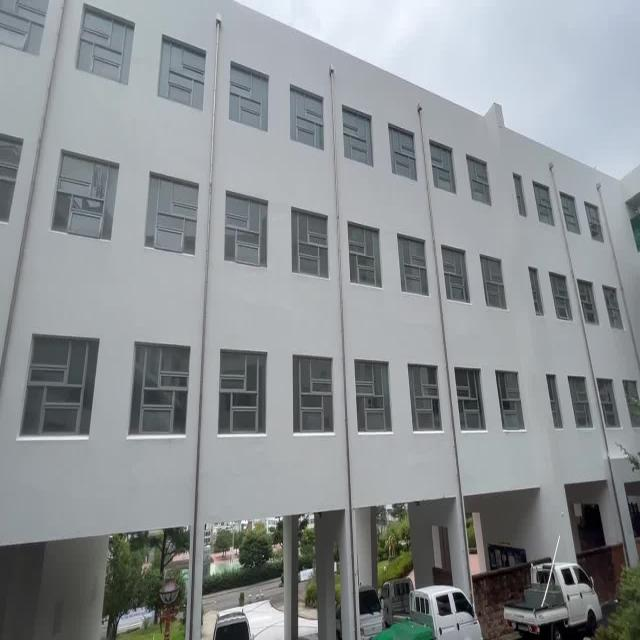building: (15, 20, 632, 470)
